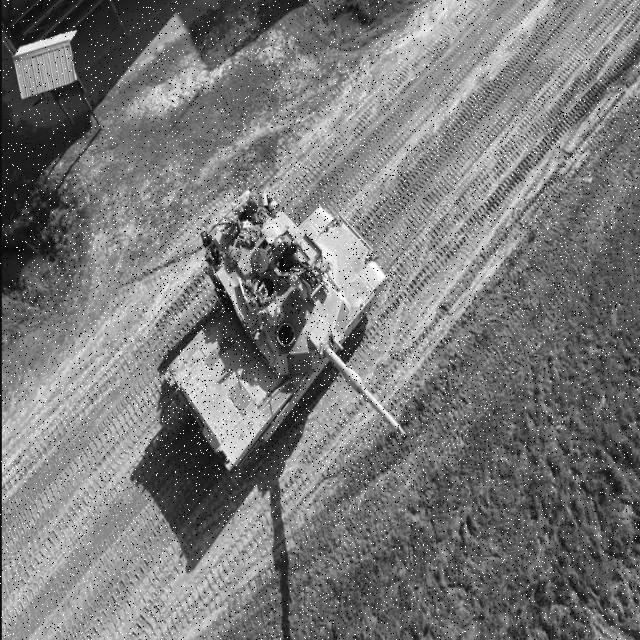MIL_MBT: (160, 190, 415, 478)
